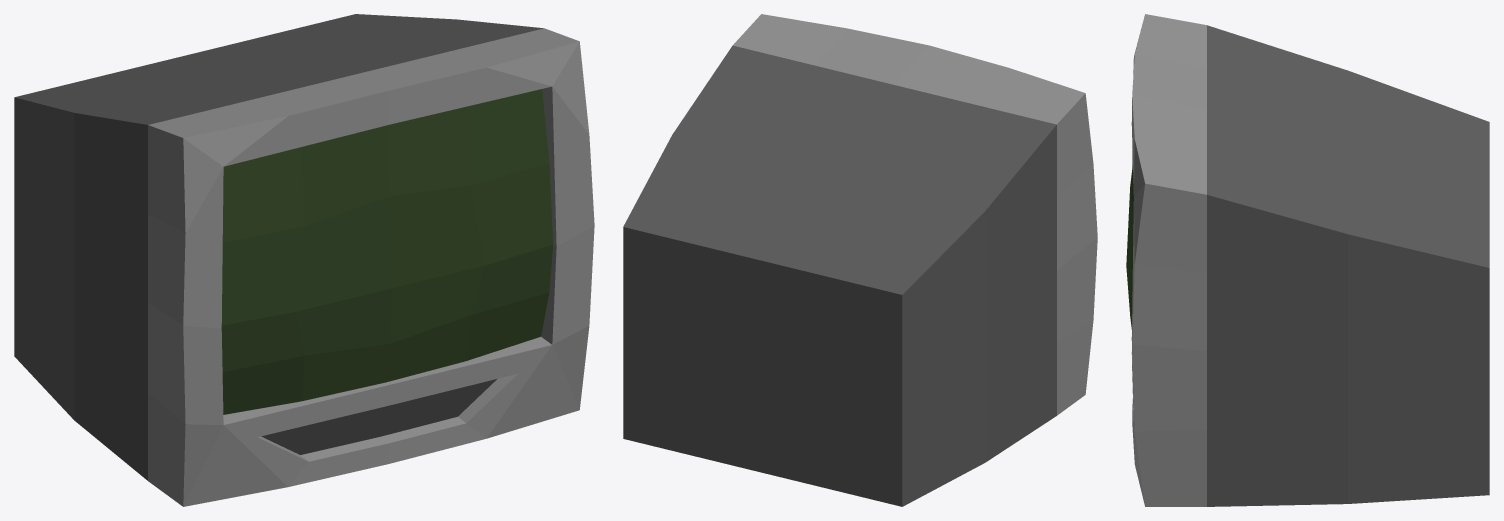
The model's file is TelevisionSet2.fbx.
3 renders of one model, left to right at view 1: azimuth 30°, elevation 25°; view 2: azimuth 150°, elevation 25°; view 3: azimuth 270°, elevation 25°, orthographic. The views are drawn at different scales.
Visible parts, largest first — view 1: Cube.002; view 2: Cube.002; view 3: Cube.002.
Part boxes in pixels (x1,y1,x2,y2): Cube.002: [14, 14, 594, 506]; Cube.002: [623, 14, 1097, 506]; Cube.002: [1126, 14, 1489, 506].
Size of the model in its own units: 0.846 by 0.7338 by 0.7383.
